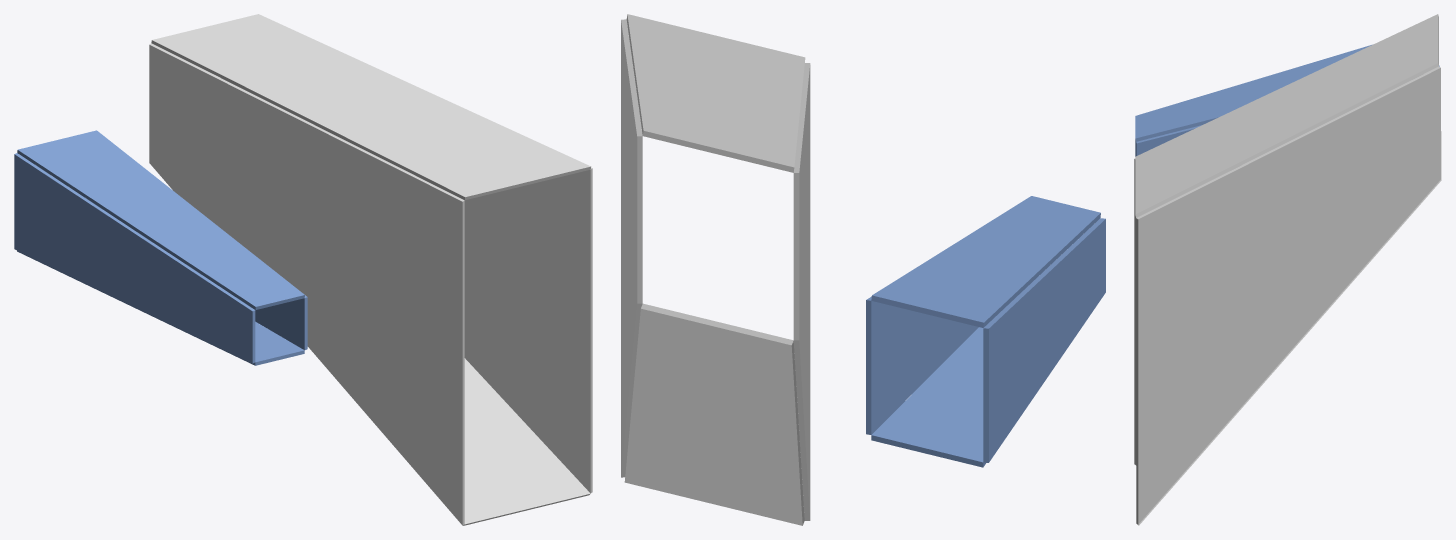
Rendered from Part Studio 1 Copy 1.gltf.
3 renders of one model, left to right at view 1: azimuth 30°, elevation 25°; view 2: azimuth 150°, elevation 25°; view 3: azimuth 270°, elevation 25°, orthographic. The views are drawn at different scales.
Visible parts, largest first — view 1: Part 6, Part 7, Part 5, Part 2, Part 1, Part 8, Part 3, Part 4; view 2: Part 8, Part 5, Part 1, Part 2, Part 4, Part 3, Part 7, Part 6; view 3: Part 7, Part 5, Part 1, Part 6, Part 8, Part 3.
Boxes of the visible parts, bbox=[...] form: Part 6: bbox=[149, 43, 464, 525]; Part 7: bbox=[417, 167, 592, 493]; Part 5: bbox=[151, 14, 591, 200]; Part 2: bbox=[14, 153, 255, 363]; Part 1: bbox=[17, 130, 304, 309]; Part 8: bbox=[463, 358, 590, 525]; Part 3: bbox=[255, 295, 307, 350]; Part 4: bbox=[17, 250, 304, 365]; Part 8: bbox=[624, 303, 804, 525]; Part 5: bbox=[626, 14, 805, 172]; Part 1: bbox=[871, 196, 1100, 327]; Part 2: bbox=[983, 218, 1105, 462]; Part 4: bbox=[871, 327, 986, 467]; Part 3: bbox=[866, 296, 978, 434]; Part 7: bbox=[621, 19, 642, 477]; Part 6: bbox=[793, 63, 810, 520]; Part 7: bbox=[1136, 66, 1440, 524]; Part 5: bbox=[1135, 14, 1438, 217]; Part 1: bbox=[1135, 44, 1372, 141]; Part 6: bbox=[1134, 74, 1422, 465]; Part 8: bbox=[1137, 131, 1441, 525]; Part 3: bbox=[1136, 65, 1439, 155].
Size of the model in its own units: 1.54 by 1.43 by 1.04.
